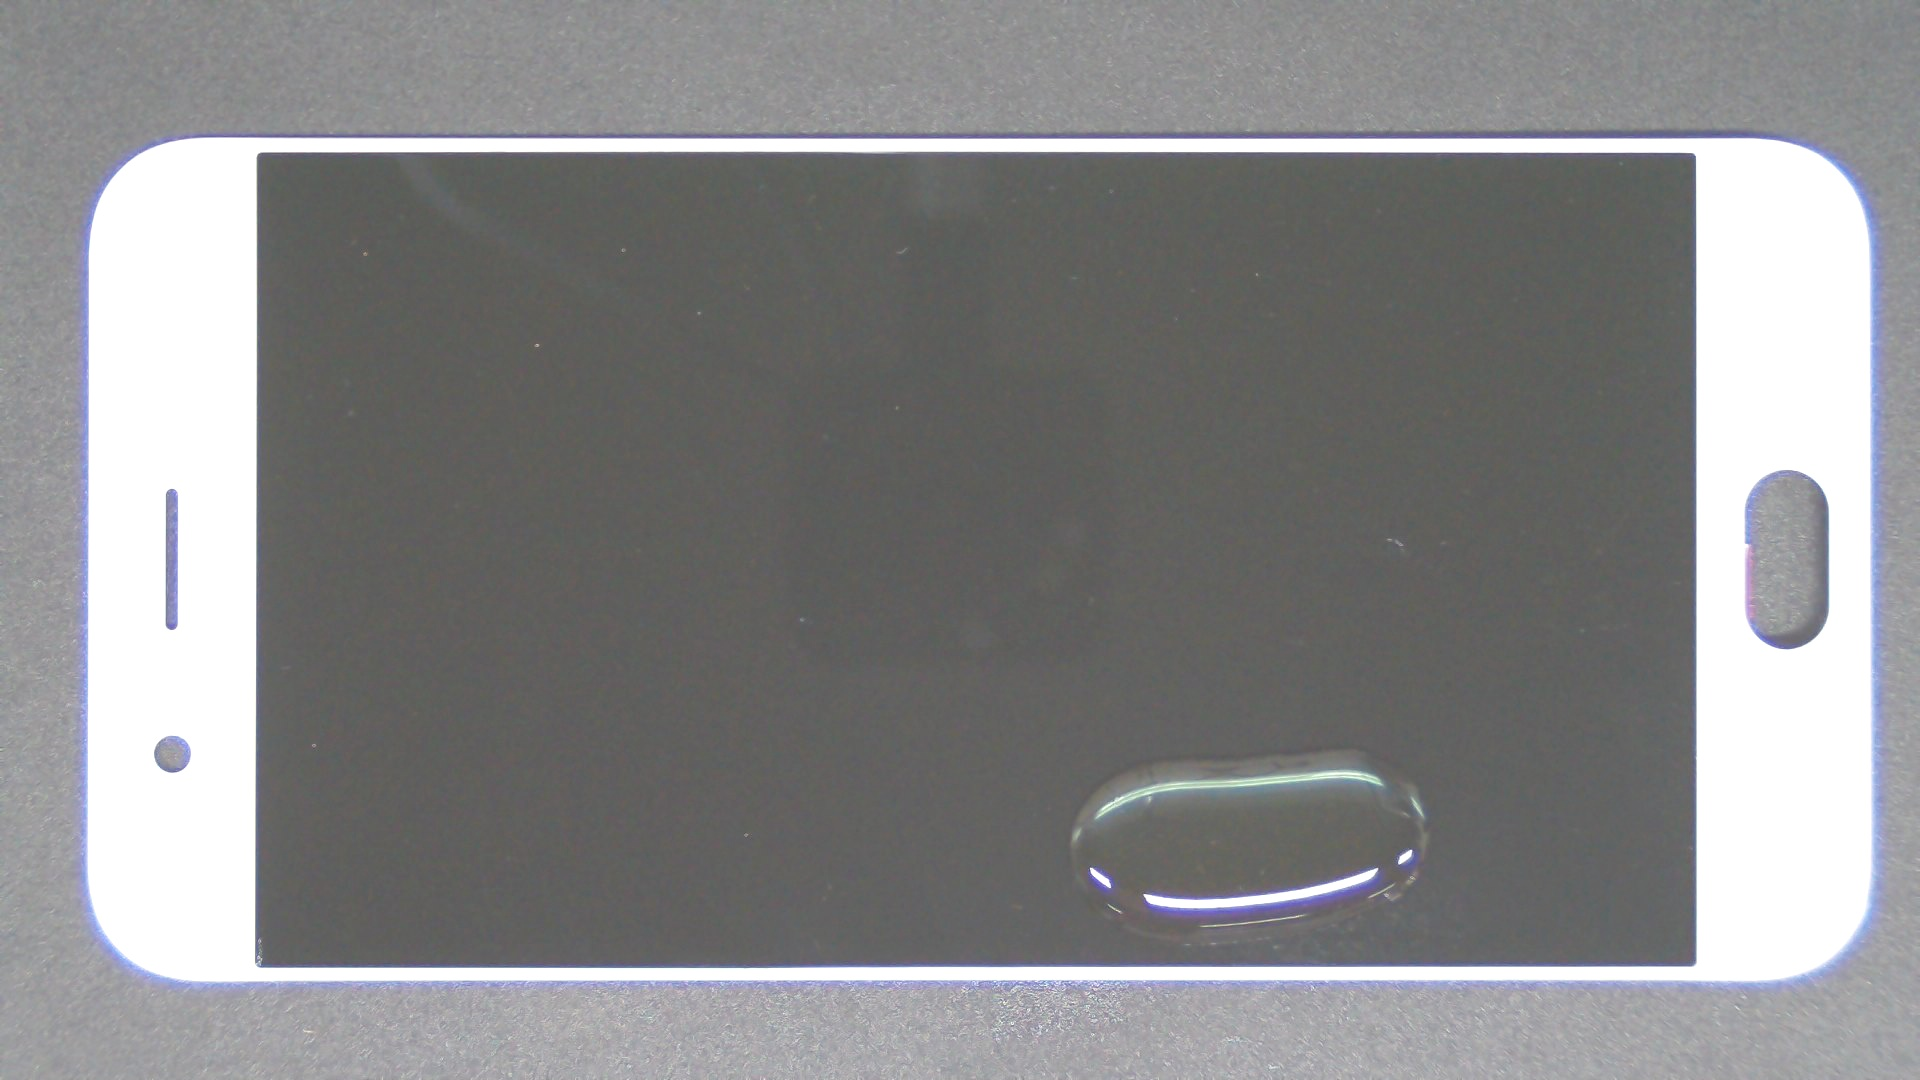oil: (674, 373, 1920, 1080)
